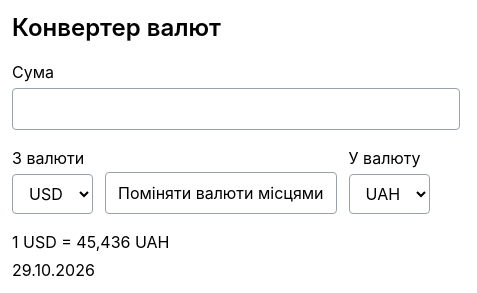
Test: Converter form › swaps the fields when the quote is given the base's currency
Select "USD" in the dropdown labelled "У валюту" at (389, 194), box top-left (348, 174), bottom-right (430, 214)
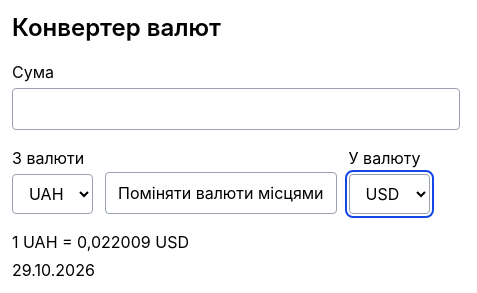
Check: the dropdown labelled "З валюти" shows "UAH", box top-left (12, 174), bottom-right (93, 214)
